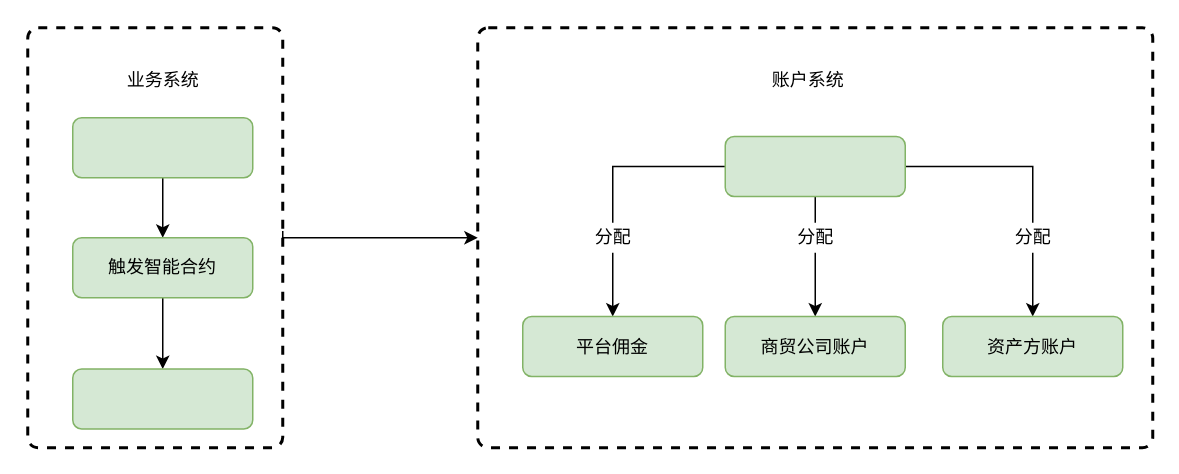
Some shapes in this 1179 by 474 pixel diagram are drawn without their labels. Here are the shapes that lost their labels. From the top down, the centre of each, then its label:
the point at 162,147: 付款方确认完成订单
the point at 814,165: EChainPay 代收代付账户
the point at 162,398: 自动分配数字资产
